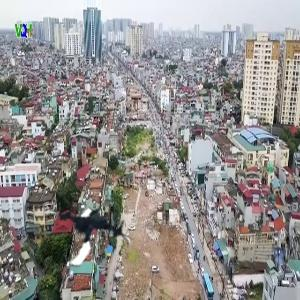drone: (45, 188, 133, 276)
